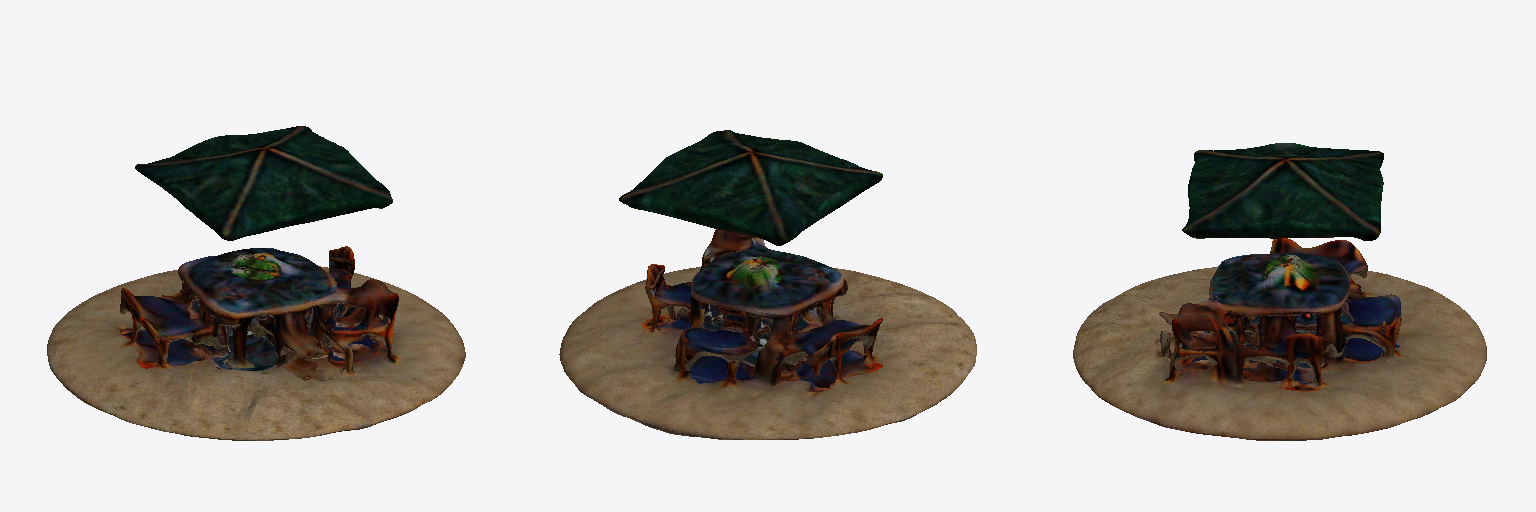
3 renders of one model, left to right at view 1: azimuth 30°, elevation 25°; view 2: azimuth 150°, elevation 25°; view 3: azimuth 270°, elevation 25°, orthographic.
Parts seen in each view (by area): view 1: mesh; view 2: mesh; view 3: mesh.
Boxes of the visible parts, x1=… form: mesh: x1=47, y1=126, x2=465, y2=440; mesh: x1=559, y1=130, x2=976, y2=439; mesh: x1=1073, y1=143, x2=1486, y2=440.
Size of the model in its own units: 0.9944 by 0.5436 by 0.9957.
Materials: 1 (1 with a texture image).